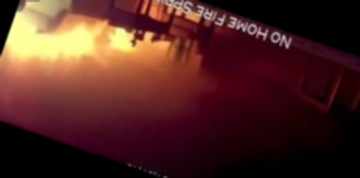fire: (0, 0, 160, 106)
